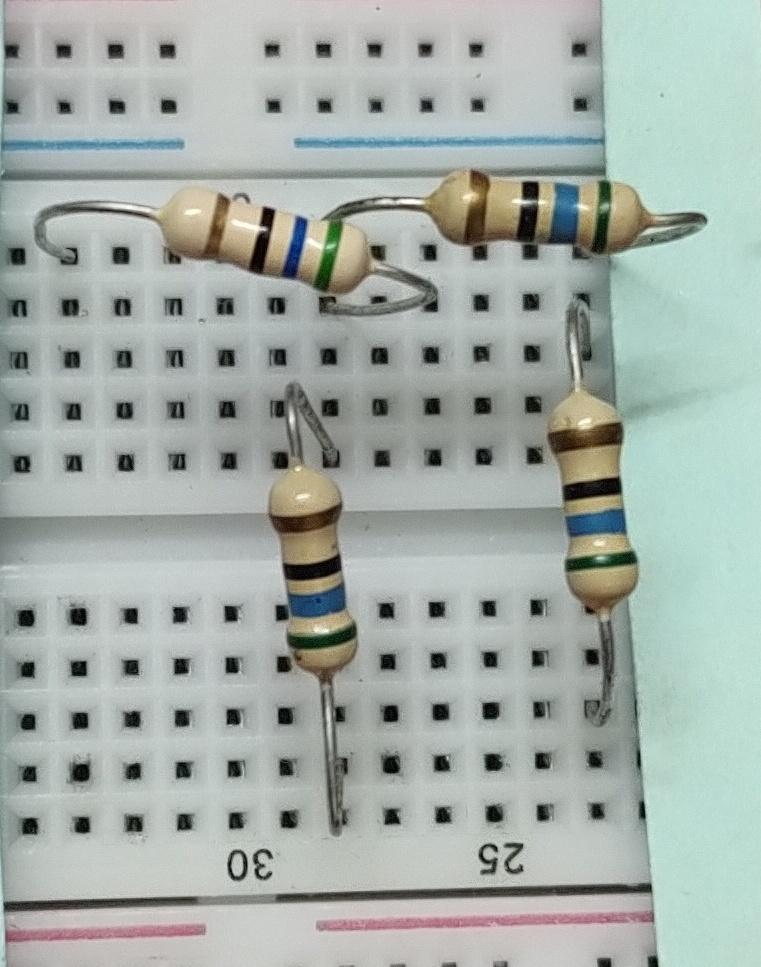resistor: (141, 171, 384, 302), (259, 451, 377, 686), (419, 155, 655, 270), (541, 383, 644, 630)
